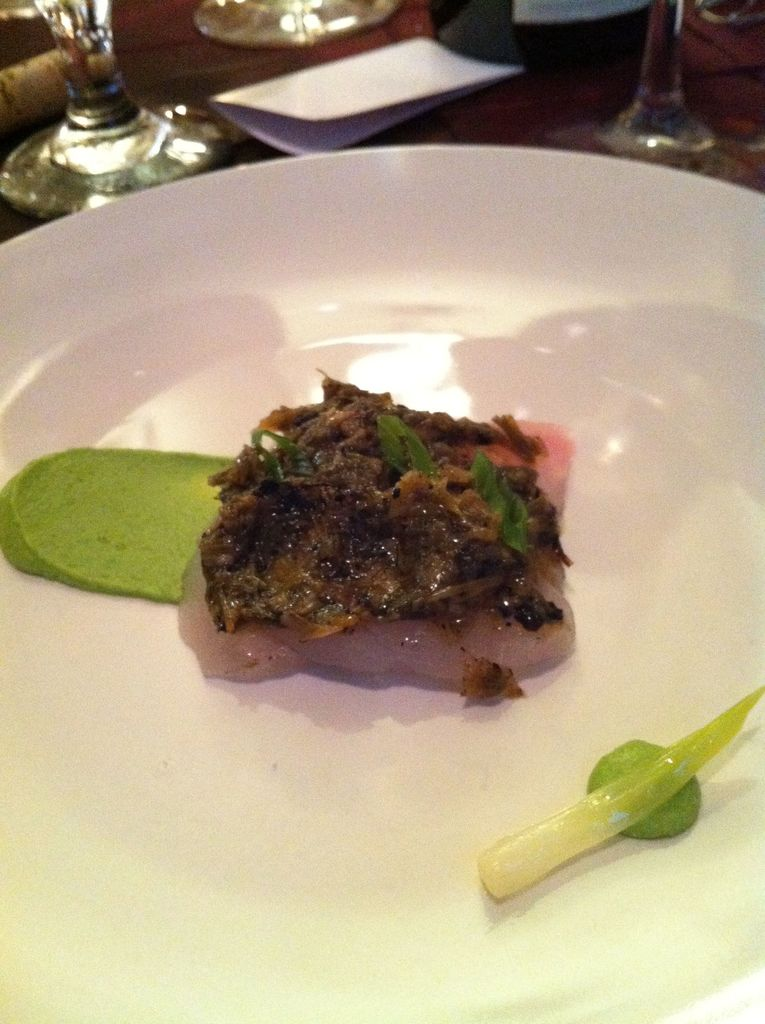plate: (0, 144, 764, 1023)
